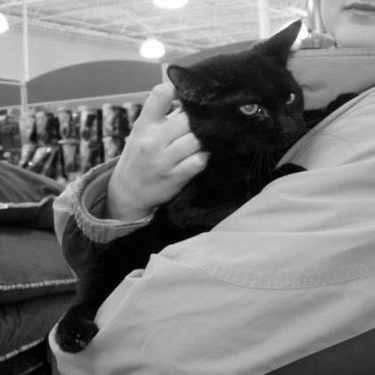cat: (53, 19, 361, 358)
